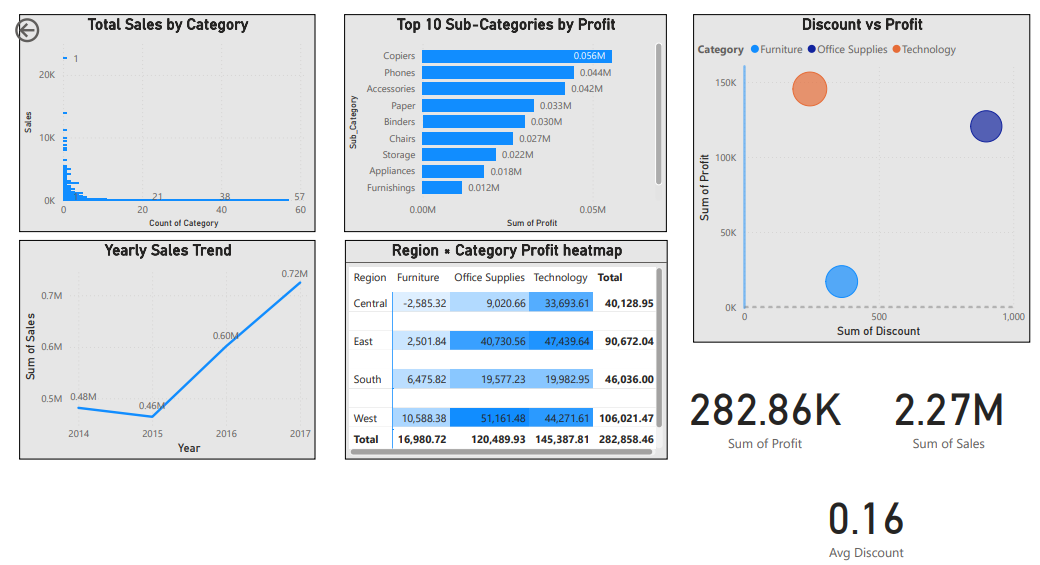

This screenshot's page, from the dashboard's own definition file:
{"tool":"powerbi","page":{"name":"Page 1","canvas":[1280,720],"ordinal":0},"visuals":[{"type":"clusteredBarChart","title":"Total Sales by Category","fields":{"Y":["CountNonNull(ecommerce_sales superstore.Category)"],"Category":["ecommerce_sales superstore.Sales"]},"box":[10.1,0,369.6,272.1],"z":0},{"type":"lineChart","title":"Yearly Sales Trend","fields":{"Category":["ecommerce_sales superstore.Order_Date.Variation.Date Hierarchy.Year"],"Y":["Sum(ecommerce_sales superstore.Sales)"]},"box":[10.1,282.2,369.6,273.8],"z":1000},{"type":"clusteredBarChart","title":"Top 10 Sub-Categories by Profit","fields":{"Category":["ecommerce_sales superstore.Sub_Category"],"Y":["Sum(ecommerce_sales superstore.Profit)"]},"box":[416.2,0,403.2,272.2],"z":2000},{"type":"pivotTable","title":"Region × Category Profit heatmap","fields":{"Rows":["ecommerce_sales superstore.Region"],"Columns":["ecommerce_sales superstore.Category"],"Values":["Sum(ecommerce_sales superstore.Profit)"]},"box":[416.6,282.2,403.1,273.8],"z":2001},{"type":"actionButton","box":[0,0,100,40],"z":2002},{"type":"scatterChart","title":"Discount vs Profit","fields":{"X":["Sum(ecommerce_sales superstore.Discount)"],"Y":["Sum(ecommerce_sales superstore.Profit)"],"Size":["Sum(ecommerce_sales superstore.Sales)"],"Series":["ecommerce_sales superstore.Category"]},"box":[852.5,0,420.5,410.4],"z":2003},{"type":"card","fields":{"Values":["Sum(ecommerce_sales superstore.Profit)"]},"box":[836.5,419.9,210,154.5],"z":2004},{"type":"card","fields":{"Values":["Sum(ecommerce_sales superstore.Sales)"]},"box":[1063.3,419.9,216.7,154.5],"z":2005},{"type":"card","fields":{"Values":["ecommerce_sales superstore.Avg Discount"]},"box":[930.2,555.8,276.5,154.1],"z":2006}]}

Visuals, with their boxes in screenshot pixels (x1, y1, x2, y2):
"Total Sales by Category" clusteredBarChart: rect(27, 11, 313, 222)
"Yearly Sales Trend" lineChart: rect(27, 230, 313, 442)
"Top 10 Sub-Categories by Profit" clusteredBarChart: rect(342, 11, 654, 222)
"Region × Category Profit heatmap" pivotTable: rect(342, 230, 654, 442)
actionButton: rect(19, 11, 96, 42)
"Discount vs Profit" scatterChart: rect(680, 11, 1006, 329)
card - Sum(ecommerce_sales superstore.Profit): rect(667, 336, 830, 456)
card - Sum(ecommerce_sales superstore.Sales): rect(843, 336, 1011, 456)
card - ecommerce_sales superstore.Avg Discount: rect(740, 442, 955, 561)
